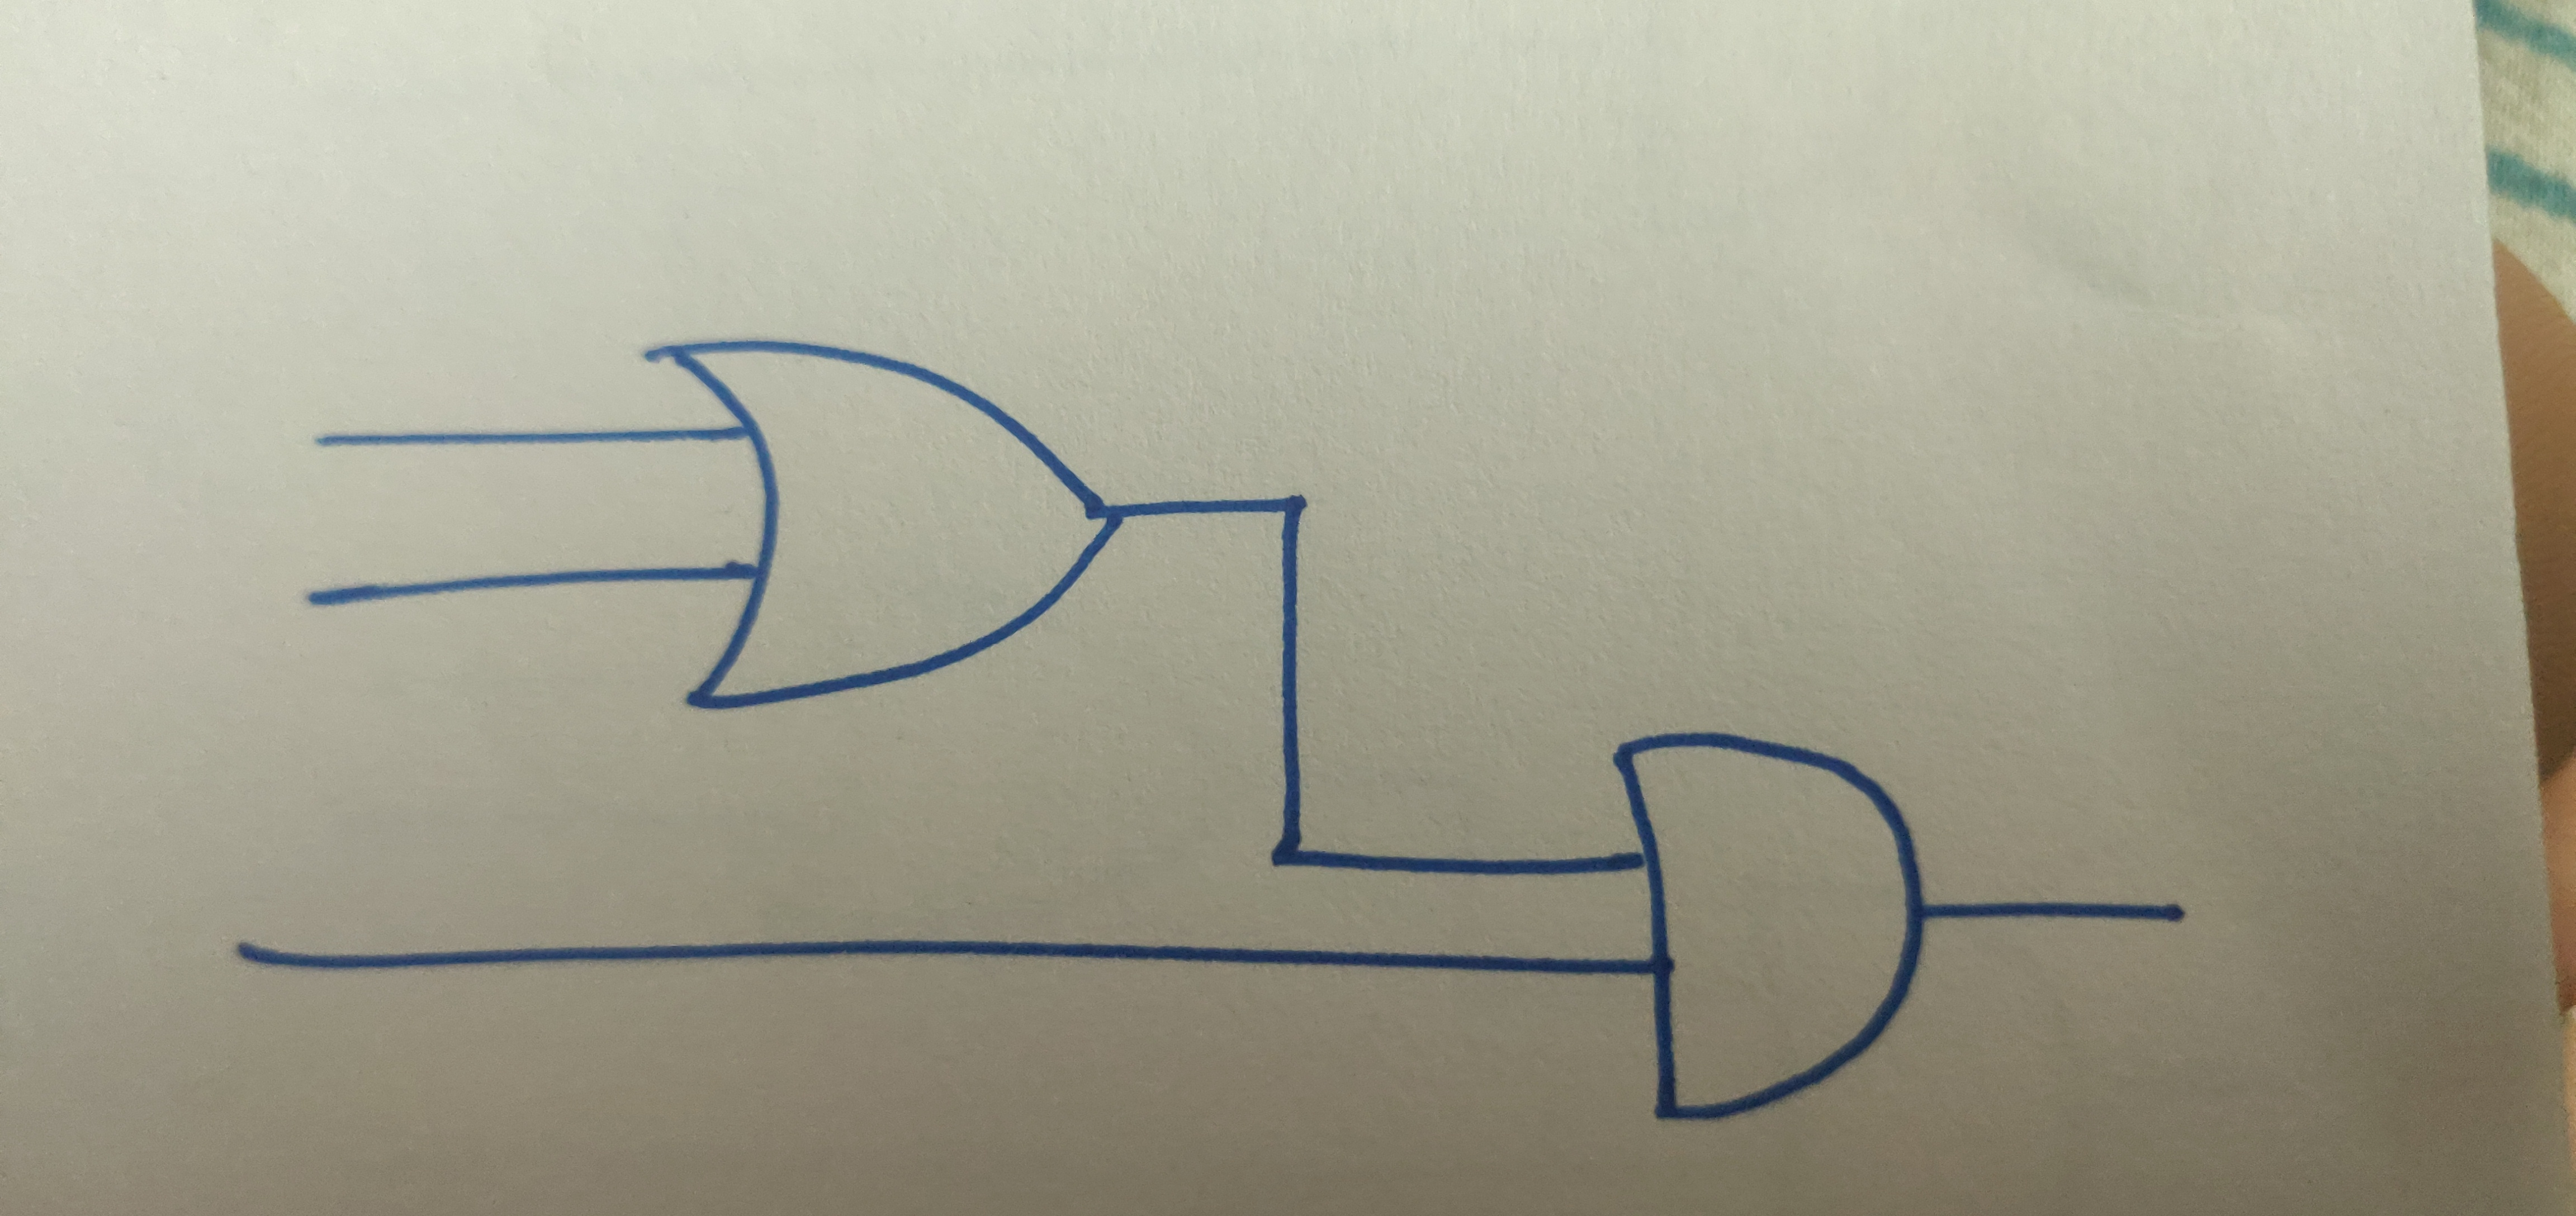and: (1613, 716, 1925, 1127)
or: (660, 335, 1124, 710)
